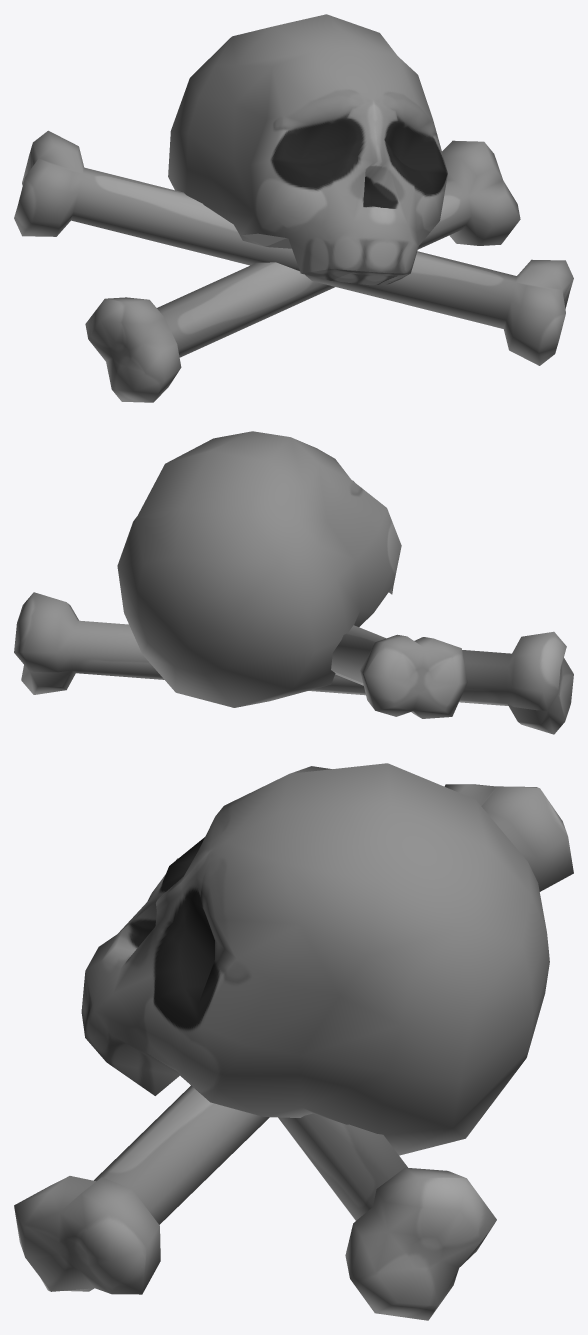
File: skul.fbx
The picture shows the model from 3 angles, top to bottom: view 1: azimuth 30°, elevation 25°; view 2: azimuth 150°, elevation 25°; view 3: azimuth 270°, elevation 25°; orthographic projection. The views are drawn at different scales.
Visible parts, largest first — view 1: skul; view 2: skul; view 3: skul.
Part boxes in pixels (x1,y1,x2,y2): skul: (14,14,573,402); skul: (14,431,573,734); skul: (14,763,573,1320).
Bounding box in the file's own units: 35.5 × 20.52 × 24.77.
